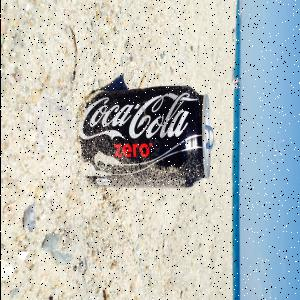Can: (78, 86, 214, 189)
